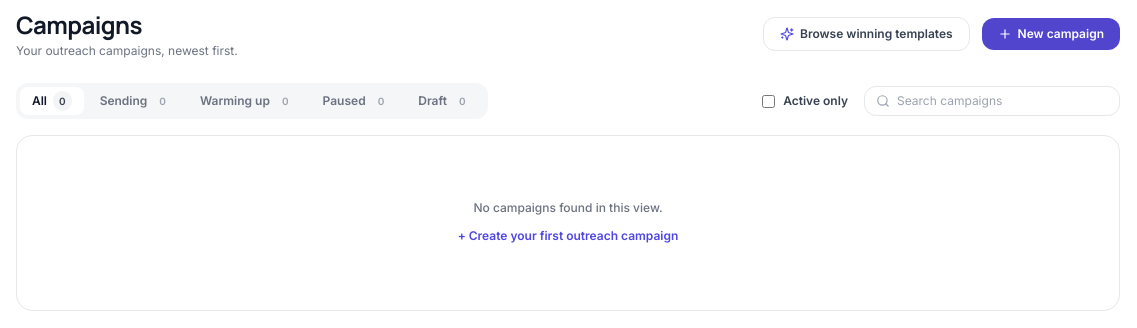
Test: Server-reviewed gallery selection › shows no selectable fallback while loading and after failure; explicit retry recovers
This screenshot has width=1137, height=328.
Later steps or results of the test are not shown.
What coordinates should you click on to do the following:
click the button "Browse winning templates"
I would click on:
 (866, 34)
Its box is [763,17,970,51].
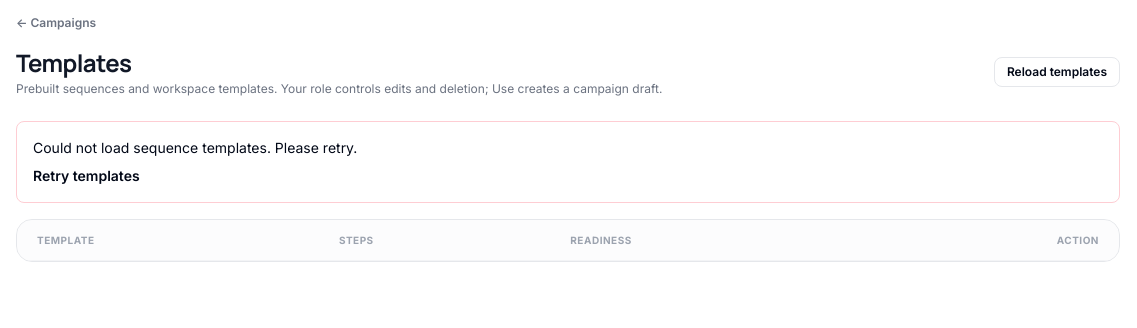
Expected: the message "Could not load sequence templates. Please retry. Retry templates" is shown, [16,121,1120,203]
What coordinates should you click on to do the following:
click the button "Retry templates"
I would click on:
 (86, 176)
Its box is [33,166,140,186].
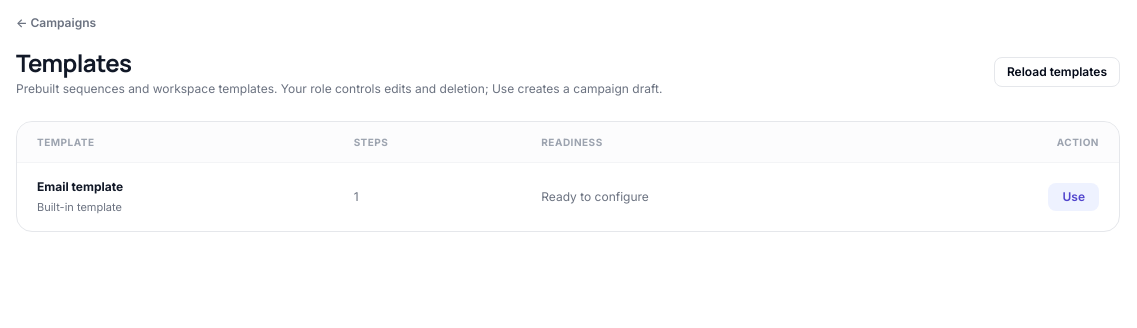
Expected: the text "Email template" is shown, [37,179,123,195]
Expected: the button "Use" is enabled, [1048,183,1099,211]
